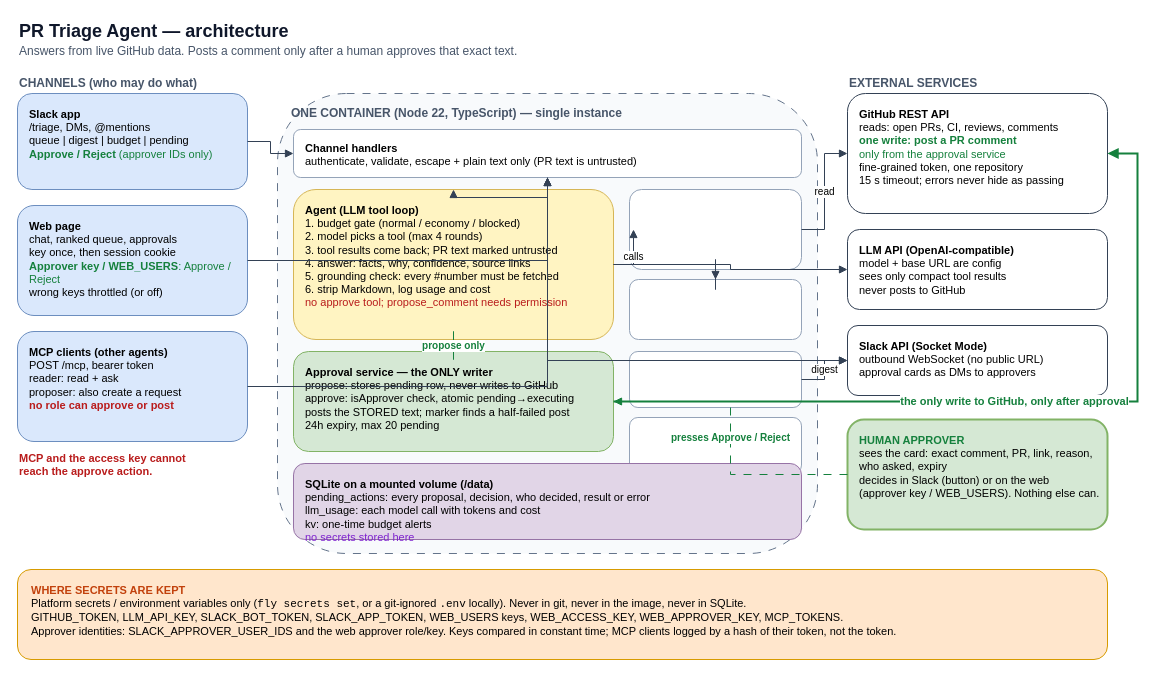
Some shapes in this 1164 by 677 pixel diagram are drawn without their labels. The shapes that lost their labels are listed below. From the top down, each one's centre as x and y in pixels, then its label:
At (x=715, y=229): "Tools get_review_queue get_pull_request propose_comment".
At (x=715, y=309): "Triage engine deterministic score + state unknowns lower confidence".
At (x=715, y=379): "Scheduler weekday digest (cron) no model, no AI cost".
At (x=715, y=445): "Budget guard $50/mo incl. hosting economy 80%, stop 100%".
